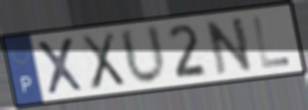2: (169, 22, 210, 82)
L: (250, 15, 293, 70)
N: (203, 14, 255, 77)
U: (117, 22, 170, 88)
X: (34, 35, 87, 97), (78, 30, 128, 93)
